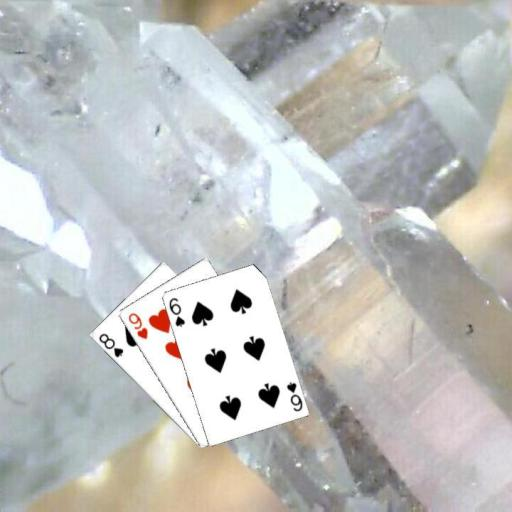6S: (283, 379, 304, 412), (166, 294, 186, 328)
8S: (96, 330, 125, 359)
9H: (125, 309, 150, 341)
